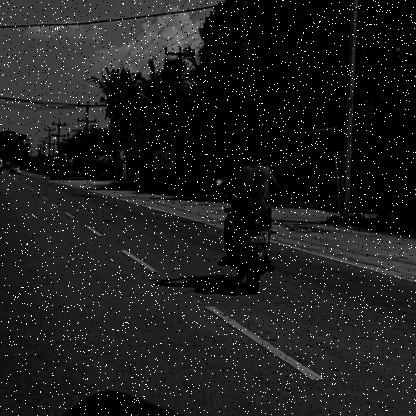motorcycle: (214, 208, 280, 300)
